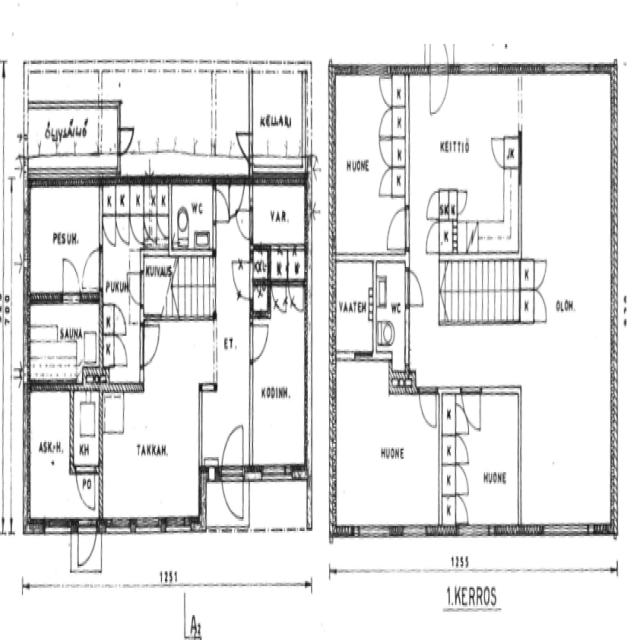door: (455, 378, 493, 462), (220, 418, 246, 523), (46, 238, 90, 297), (428, 43, 450, 119), (383, 202, 409, 256), (59, 253, 82, 302), (80, 244, 102, 294), (76, 520, 98, 570), (459, 387, 482, 433), (75, 464, 97, 512), (140, 318, 161, 368), (249, 317, 270, 363), (418, 386, 438, 434), (405, 266, 425, 310), (232, 191, 252, 235), (231, 257, 251, 300), (227, 178, 246, 218), (212, 186, 231, 225), (424, 217, 442, 256), (377, 131, 395, 169), (530, 256, 548, 293), (235, 206, 253, 242), (112, 332, 129, 370), (127, 270, 144, 308), (489, 132, 506, 170), (377, 164, 394, 200), (532, 287, 548, 325), (118, 122, 135, 156), (454, 465, 471, 499), (235, 127, 252, 160), (378, 105, 394, 140), (378, 74, 394, 108), (129, 212, 145, 246), (101, 214, 117, 248), (112, 302, 128, 336), (289, 280, 305, 314), (454, 433, 470, 466), (425, 187, 441, 220), (454, 493, 470, 524), (154, 209, 170, 240), (116, 213, 130, 246), (456, 188, 468, 214)
window: (542, 517, 594, 545), (543, 57, 592, 82), (458, 58, 500, 80), (260, 461, 291, 486), (132, 514, 162, 537), (105, 515, 133, 538), (44, 518, 71, 540), (164, 516, 190, 538), (401, 522, 428, 542), (462, 522, 491, 540), (336, 346, 356, 366)
zone: (521, 58, 617, 507), (408, 71, 521, 253), (333, 372, 440, 534), (100, 378, 203, 526), (332, 70, 398, 258), (250, 283, 307, 473), (456, 390, 520, 532), (28, 180, 101, 295), (28, 385, 73, 524), (27, 300, 102, 382), (250, 68, 306, 172), (101, 194, 139, 321), (334, 257, 374, 358), (250, 180, 306, 249), (374, 256, 408, 369), (212, 68, 251, 163), (435, 166, 471, 264), (170, 182, 215, 252), (72, 388, 101, 468), (141, 247, 174, 317), (439, 186, 458, 256), (268, 245, 297, 281), (440, 461, 456, 521), (439, 387, 456, 440), (284, 244, 306, 280), (251, 244, 270, 280), (252, 279, 270, 315), (388, 168, 406, 200), (102, 305, 116, 337)
